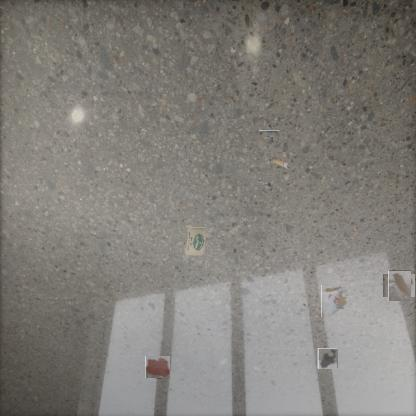dirty: (321, 286, 350, 318), (386, 272, 413, 299), (184, 227, 206, 255), (273, 154, 291, 172), (263, 127, 276, 140)
liquid: (146, 356, 169, 379), (318, 348, 338, 368)
